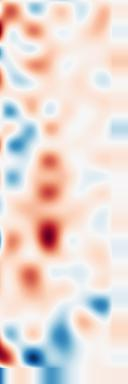filament: (19, 147, 73, 258)
